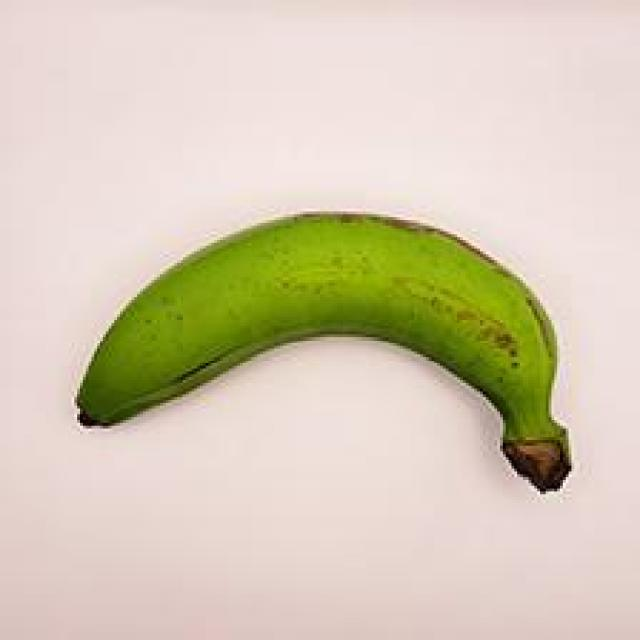Raw: (61, 177, 592, 525)
